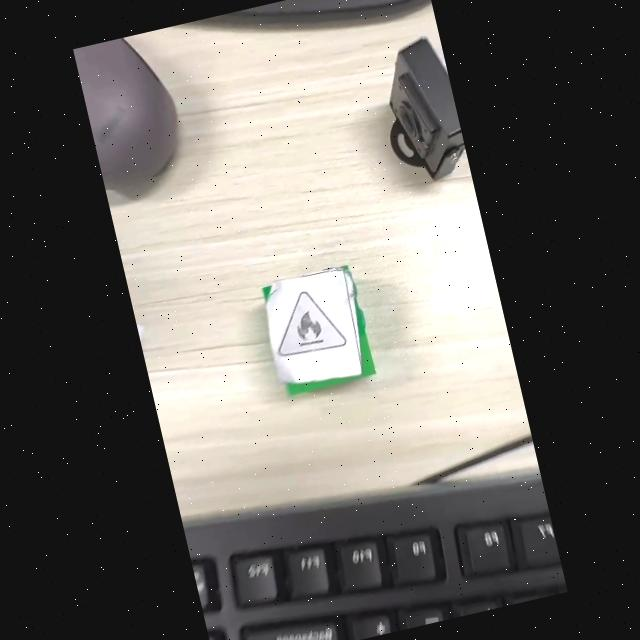Fire: (278, 292, 346, 357)
